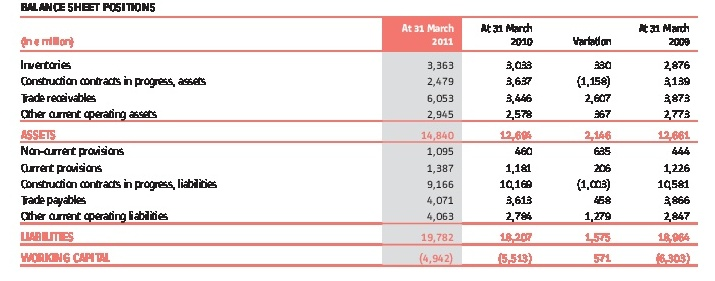table: (0, 0, 715, 281)
